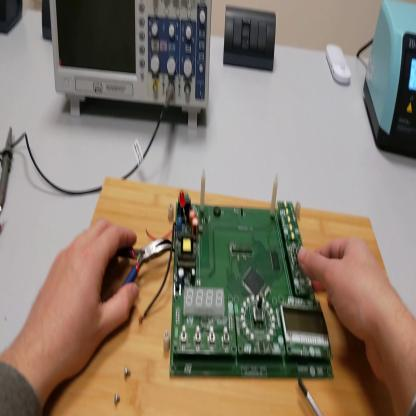hand: (33, 219, 141, 381), (300, 234, 399, 376)
low voltage board: (140, 164, 334, 374)
oscilloscope: (50, 4, 209, 131)
oscilloscope probe tip: (1, 129, 14, 213)
pliers: (116, 234, 175, 283)
screwdriver-: (300, 382, 322, 415)
socket: (2, 2, 24, 38), (43, 1, 53, 39)
welder station: (366, 6, 416, 157)
working area: (44, 178, 389, 414)
